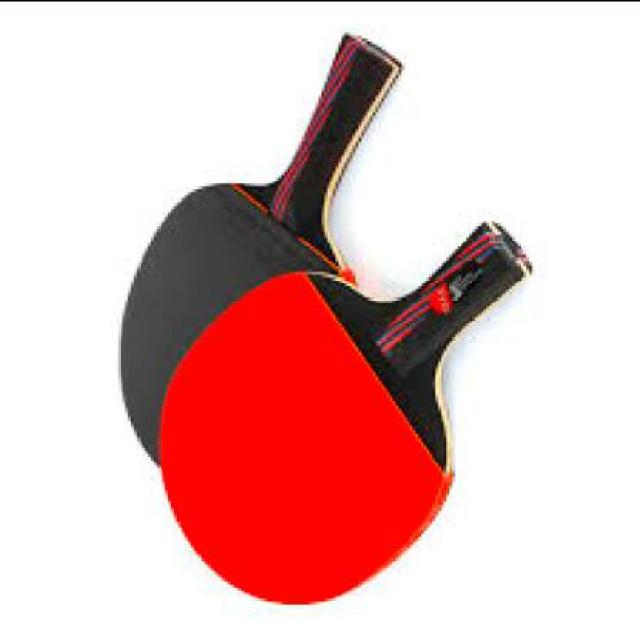table_tennis_racket: (156, 266, 461, 605), (105, 178, 363, 470)
